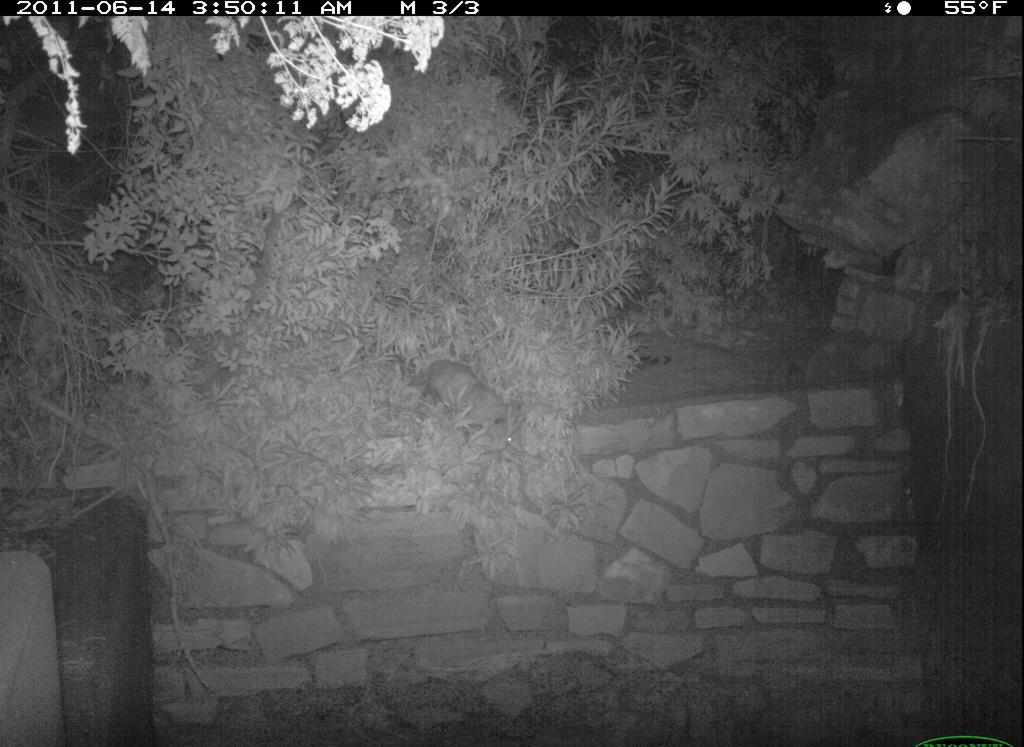opossum: (369, 344, 551, 470)
